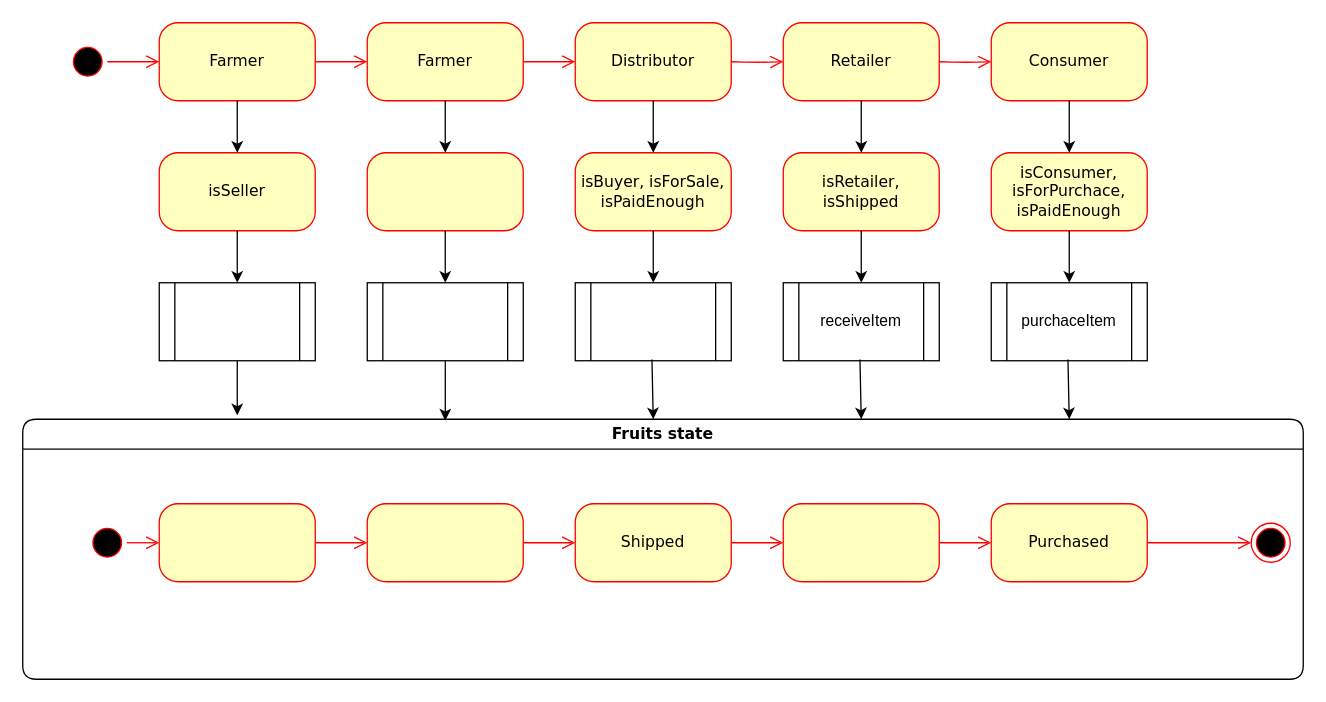
The diagram is 1326 pixels wide and 702 high, and some of its shapes have lost their labels. Each missing label, with the centre of its shape:
Harvested: (x=236, y=542)
harvestItem: (x=236, y=321)
isSeller, isHarvested: (x=444, y=191)
Packed: (x=444, y=542)
packItem: (x=444, y=321)
Received: (x=860, y=542)
shipItem: (x=652, y=321)
